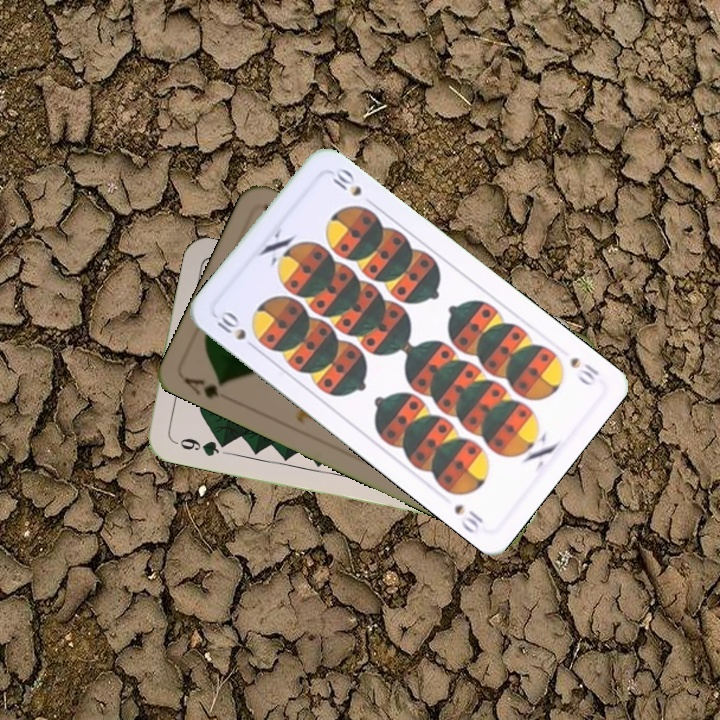G9: (168, 434, 229, 459)
GA: (180, 373, 227, 401)
S10: (209, 306, 261, 353), (566, 353, 602, 389)
